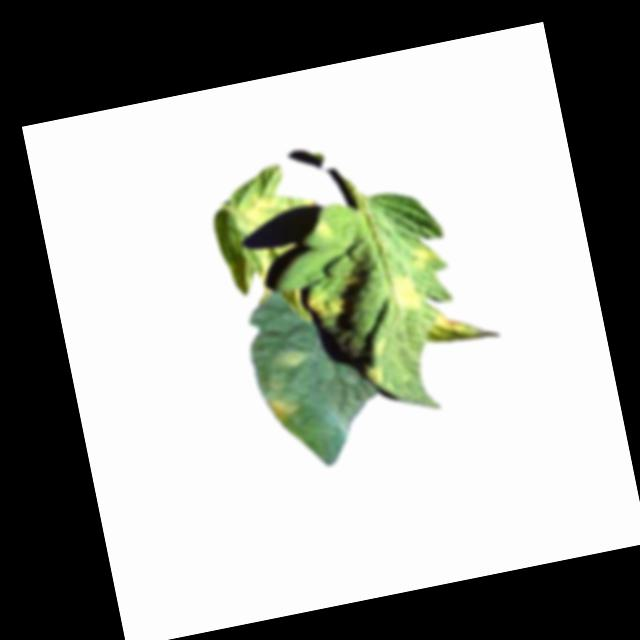Leaf_Mold: (423, 301, 495, 350), (234, 188, 280, 232), (302, 285, 345, 323), (387, 272, 422, 317), (261, 390, 301, 424), (269, 343, 311, 372), (402, 240, 444, 268)
